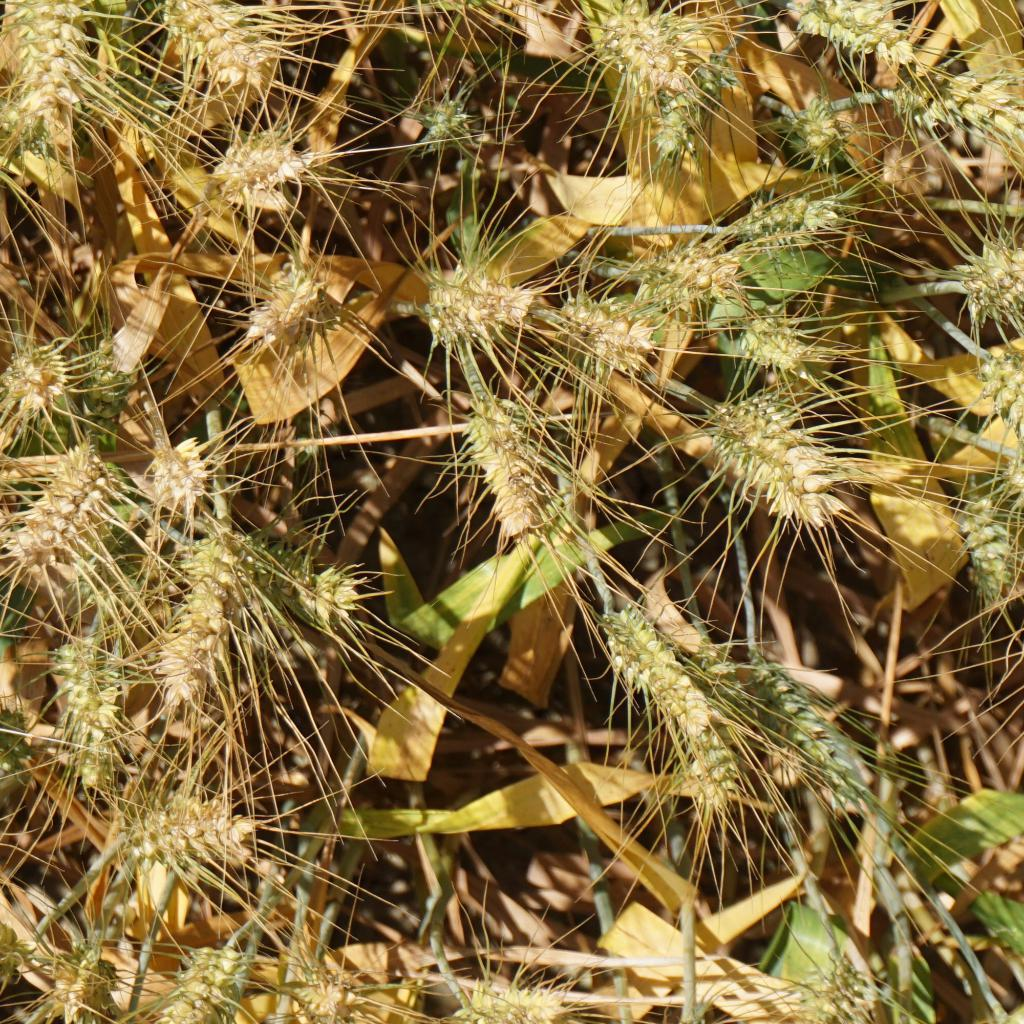0-0: (710, 382, 864, 548), (754, 650, 885, 816), (663, 617, 767, 816), (0, 435, 126, 591), (0, 0, 105, 180), (585, 588, 712, 733), (245, 524, 367, 638), (227, 256, 350, 367), (162, 0, 290, 105), (196, 112, 322, 217), (465, 403, 557, 543), (891, 69, 1024, 165), (414, 260, 545, 356), (108, 784, 249, 873), (643, 41, 729, 179), (161, 525, 233, 688), (548, 284, 656, 382), (270, 933, 384, 1024), (774, 0, 923, 68), (145, 926, 240, 1024), (956, 486, 1024, 617), (636, 236, 740, 319), (598, 0, 692, 89), (734, 302, 829, 390), (939, 228, 1024, 325), (40, 630, 110, 747), (733, 182, 848, 253), (396, 66, 486, 153), (75, 337, 140, 456), (0, 337, 84, 422), (30, 933, 114, 1017), (442, 971, 562, 1024), (790, 957, 883, 1024), (975, 353, 1024, 466), (784, 90, 848, 167), (145, 438, 215, 507), (0, 691, 34, 777), (0, 909, 28, 1003)
